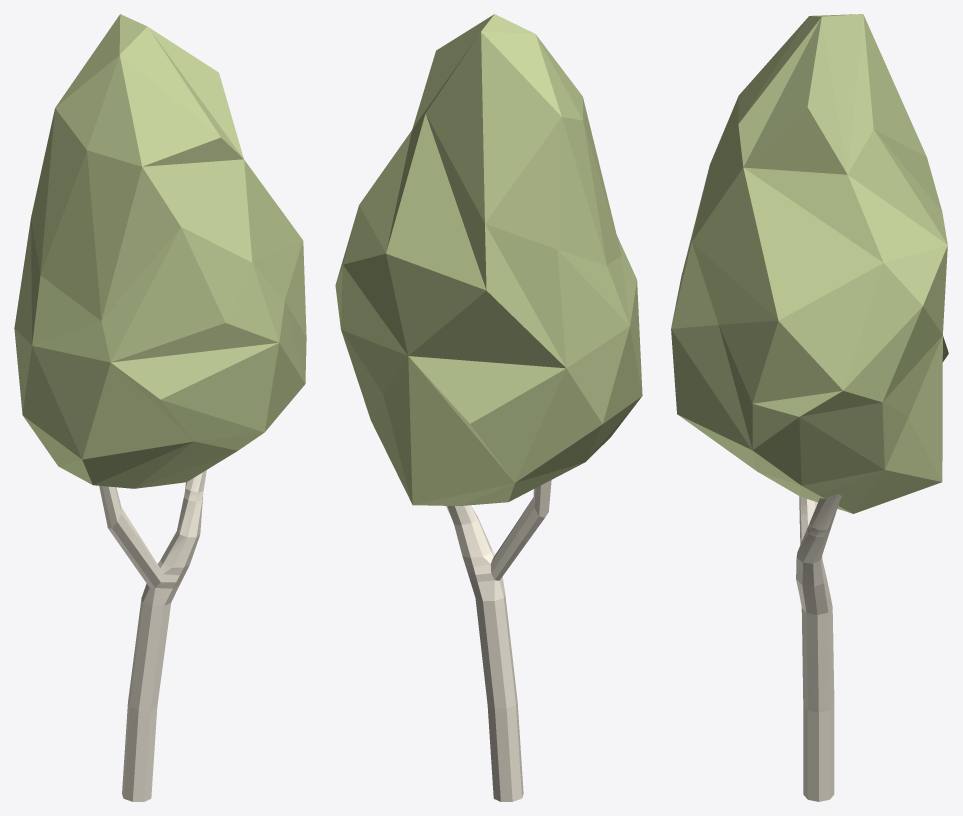
Rendered from Birch_tree.fbx.
The picture shows the model from 3 angles, left to right: view 1: azimuth 30°, elevation 25°; view 2: azimuth 150°, elevation 25°; view 3: azimuth 270°, elevation 25°; orthographic projection. The views are drawn at different scales.
Parts seen in each view (by area): view 1: pSphere6; view 2: pSphere6; view 3: pSphere6.
Part boxes in pixels (x1,y1,x2,y2): pSphere6: [14, 14, 306, 801]; pSphere6: [335, 14, 642, 801]; pSphere6: [671, 14, 948, 801].
Bounding box in the file's own units: 240 × 651 × 209.
